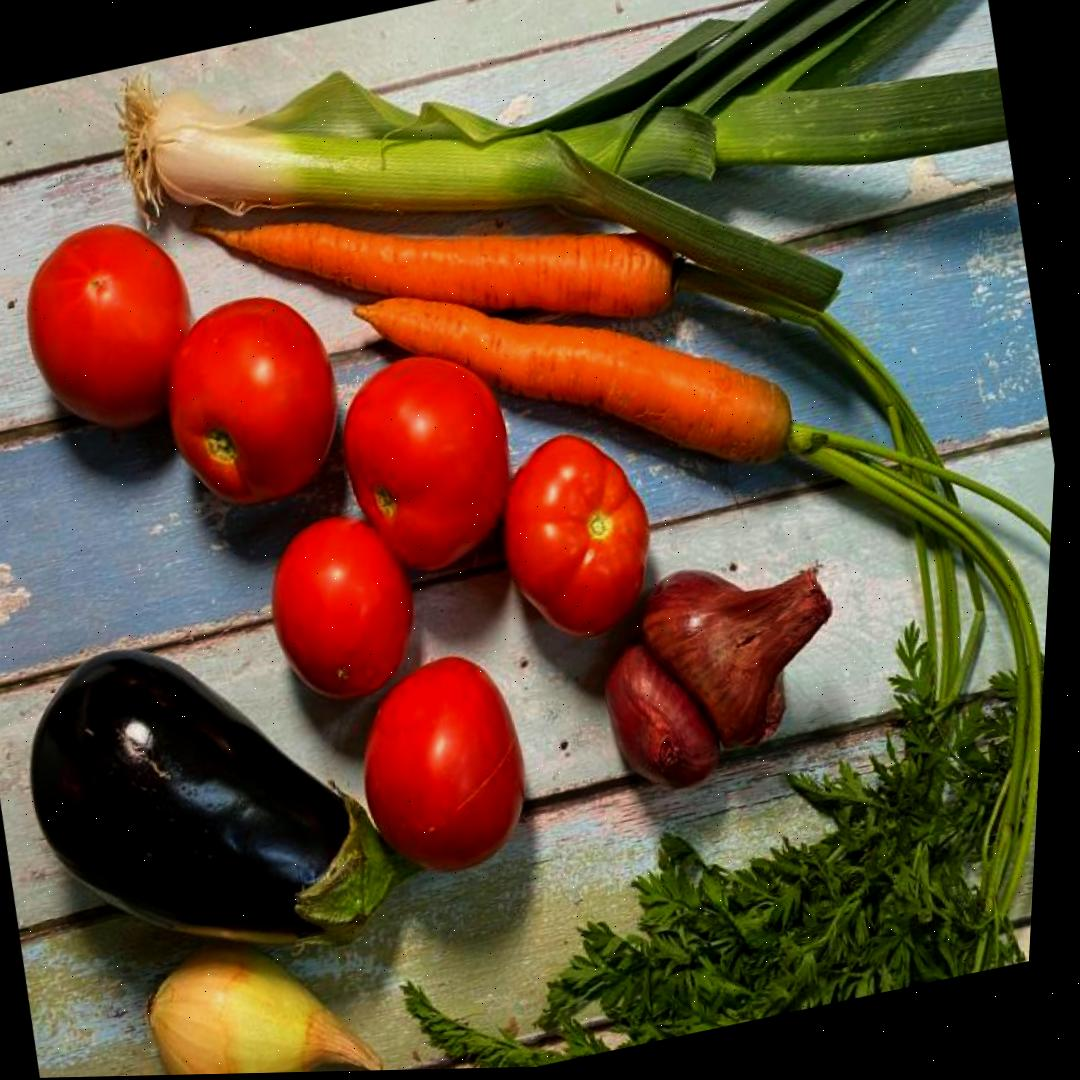matang: (319, 339, 534, 591), (2, 205, 218, 451), (142, 282, 359, 523), (336, 644, 544, 888), (478, 417, 671, 655), (251, 501, 430, 714)
